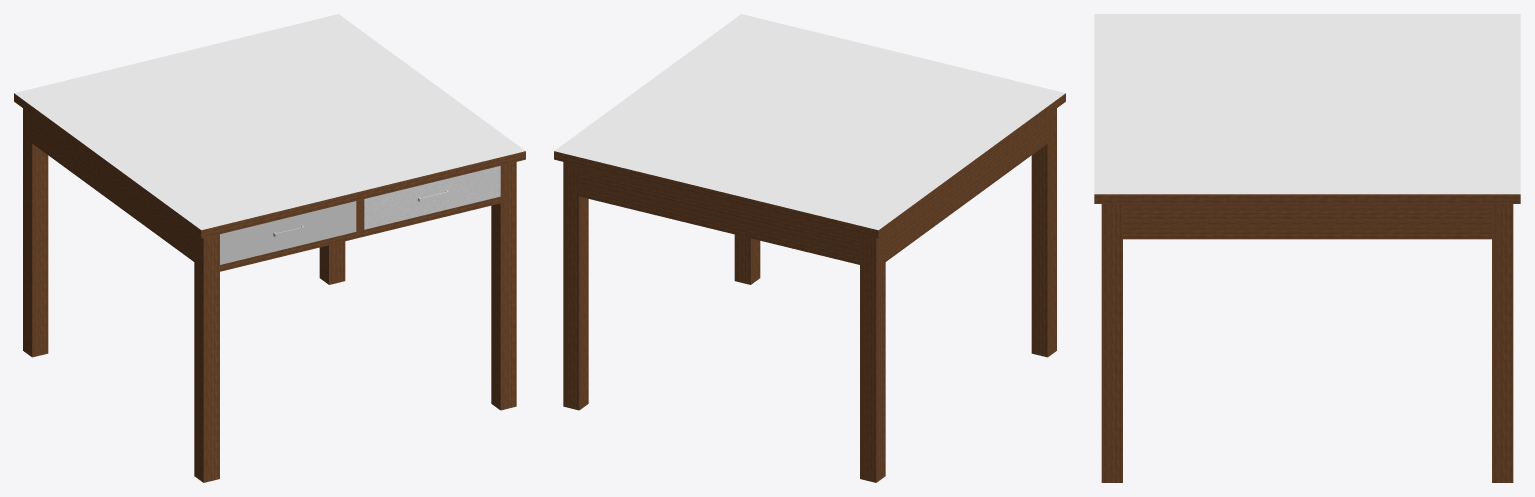
The model's file is 100Desk.obj.
The picture shows the model from 3 angles, left to right: view 1: azimuth 30°, elevation 25°; view 2: azimuth 150°, elevation 25°; view 3: azimuth 270°, elevation 25°; orthographic projection. The views are drawn at different scales.
Parts seen in each view (by area): view 1: Mesh1 TableTop Model, Mesh5 TableLeg1 Model, Mesh6 TableLeg2 Model, Mesh8 TableLeg4 Model, Mesh11 TableSide3 Model, Mesh13 Drawer2 Model, Mesh12 Drawer1 Model, Mesh3 UnderDrawer Model, Mesh7 TableLeg3 Model; view 2: Mesh1 TableTop Model, Mesh10 TableSide2 Model, Mesh8 TableLeg4 Model, Mesh7 TableLeg3 Model, Mesh5 TableLeg1 Model, Mesh11 TableSide3 Model, Mesh6 TableLeg2 Model; view 3: Mesh1 TableTop Model, Mesh9 TableSide1 Model, Mesh6 TableLeg2 Model, Mesh7 TableLeg3 Model.
Boxes of the visible parts, <box> form: Mesh1 TableTop Model: <box>14,14,525,238</box>; Mesh5 TableLeg1 Model: <box>194,234,219,482</box>; Mesh6 TableLeg2 Model: <box>491,162,516,410</box>; Mesh8 TableLeg4 Model: <box>23,108,48,357</box>; Mesh11 TableSide3 Model: <box>32,115,194,261</box>; Mesh13 Drawer2 Model: <box>364,166,500,229</box>; Mesh12 Drawer1 Model: <box>220,201,356,264</box>; Mesh3 UnderDrawer Model: <box>220,196,500,271</box>; Mesh7 TableLeg3 Model: <box>319,241,345,284</box>; Mesh1 TableTop Model: <box>554,14,1065,238</box>; Mesh10 TableSide2 Model: <box>579,166,859,264</box>; Mesh8 TableLeg4 Model: <box>860,234,885,482</box>; Mesh7 TableLeg3 Model: <box>563,162,588,410</box>; Mesh5 TableLeg1 Model: <box>1031,108,1056,357</box>; Mesh11 TableSide3 Model: <box>885,115,1047,261</box>; Mesh6 TableLeg2 Model: <box>734,234,760,284</box>; Mesh1 TableTop Model: <box>1094,14,1520,203</box>; Mesh9 TableSide1 Model: <box>1123,204,1491,239</box>; Mesh6 TableLeg2 Model: <box>1101,204,1122,482</box>; Mesh7 TableLeg3 Model: <box>1492,204,1513,482</box>.
Size of the model in its own units: 100 by 75.51 by 100.
Materials: 5 (2 with a texture image).
